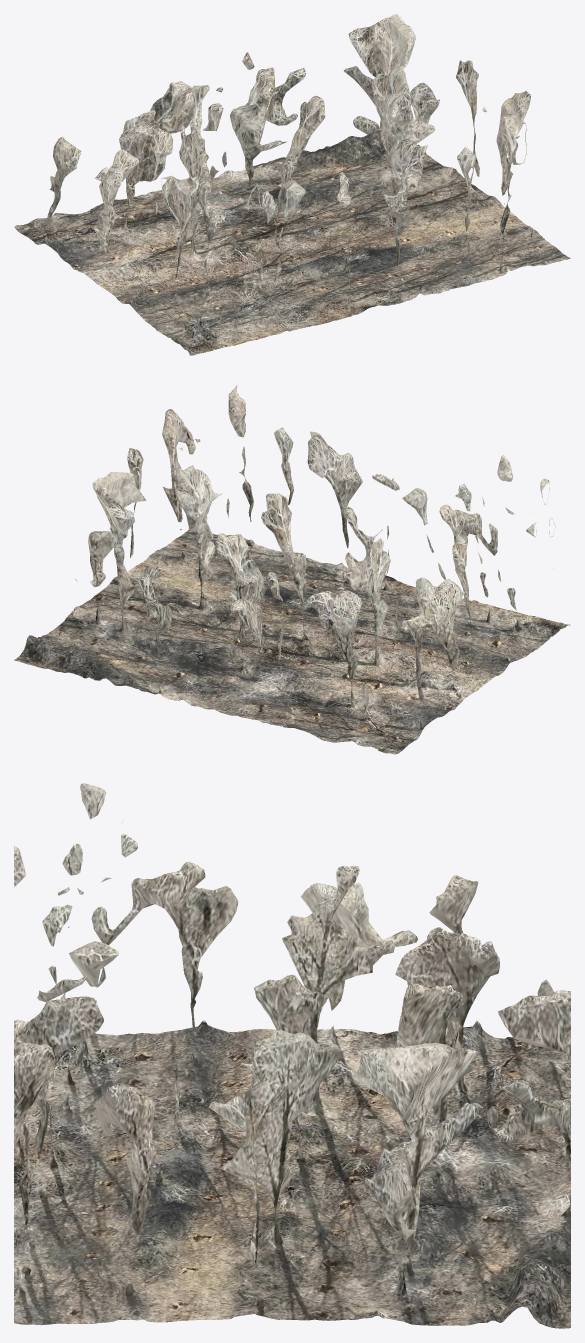
File: Block_L21_718.glb
The picture shows the model from 3 angles, top to bottom: view 1: azimuth 30°, elevation 25°; view 2: azimuth 150°, elevation 25°; view 3: azimuth 270°, elevation 25°; orthographic projection. The views are drawn at different scales.
Visible parts, largest first — view 1: rtc; view 2: rtc; view 3: rtc.
Part boxes in pixels (x1,y1,x2,y2): rtc: (14, 14, 570, 355); rtc: (14, 385, 570, 754); rtc: (14, 783, 570, 1328).
Size of the model in its own units: 23.47 by 9.93 by 18.84.
4 materials, 4 textured.
